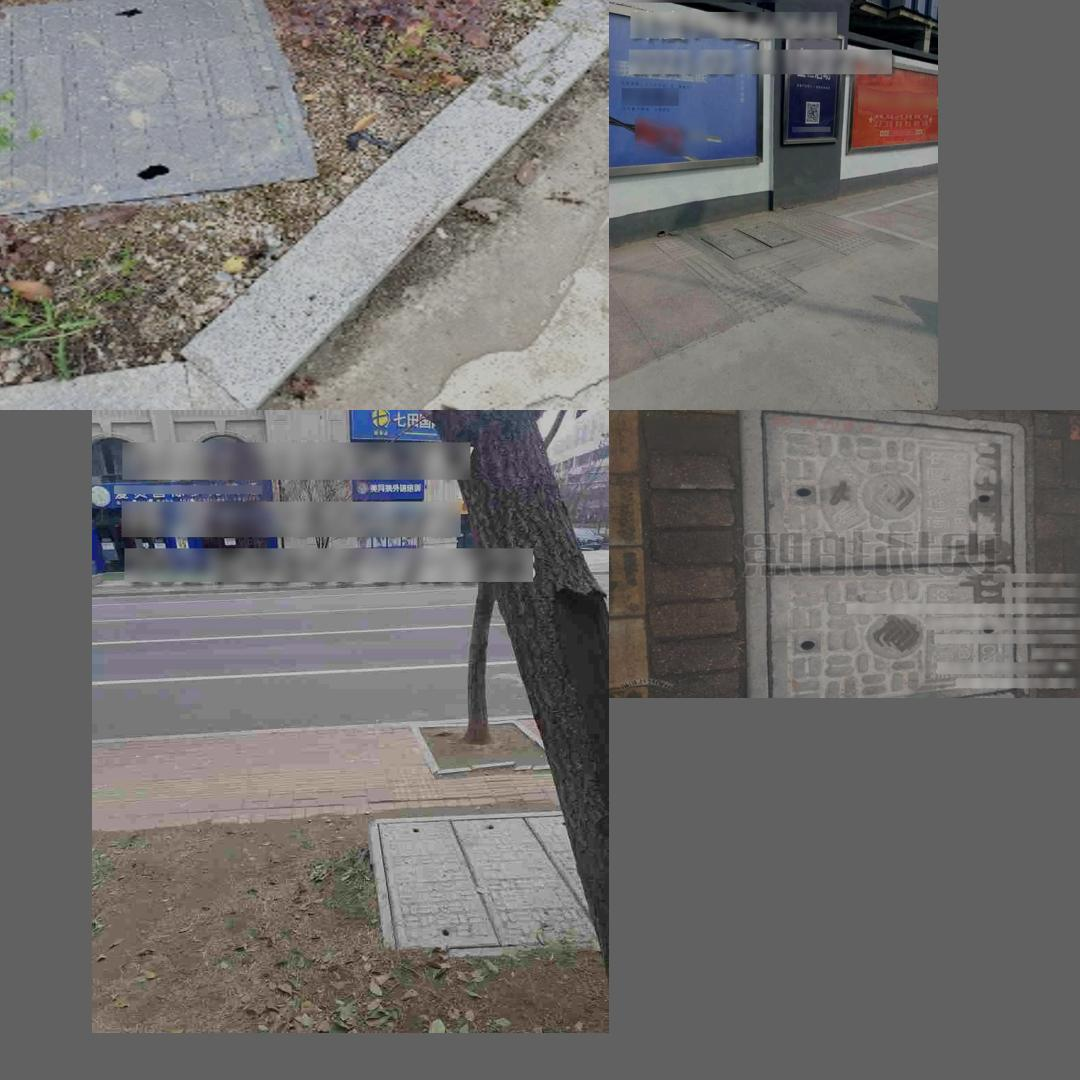good: (740, 410, 1031, 698), (0, 0, 321, 212), (368, 810, 609, 957), (696, 219, 803, 258)
